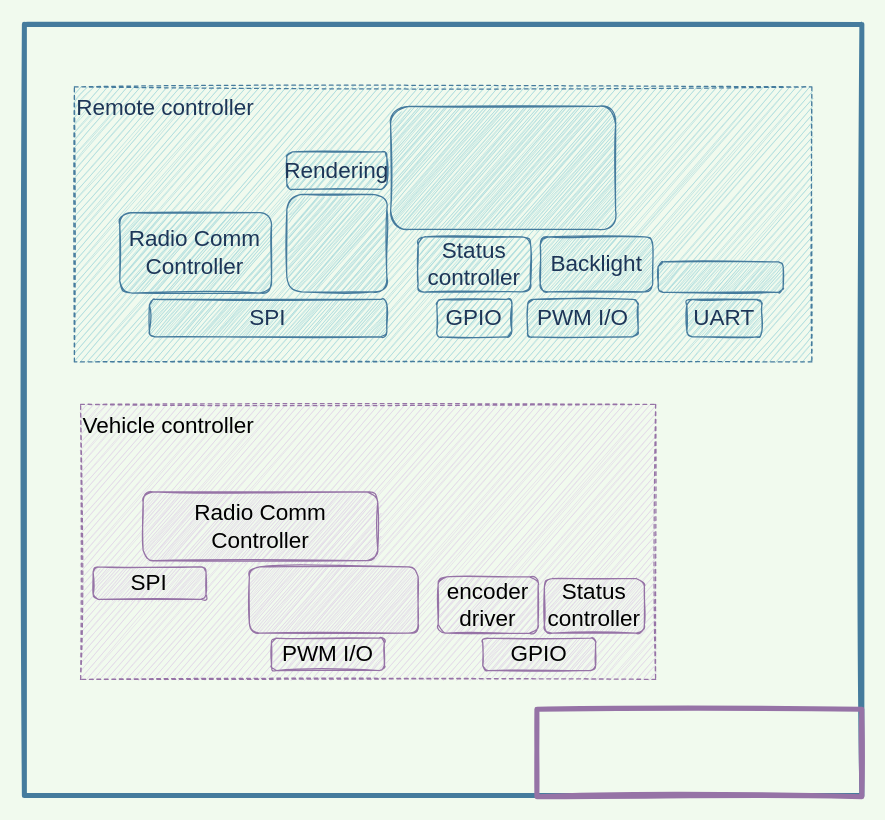
The diagram is 885 pixels wide and 820 high, and some of its shapes have lost their labels. The centre of each missing label's shape, as x and y in pixels:
Debug CLI: the point at 720,276
Flash driver: the point at 336,242
Layered block diagram: the point at 699,752
PID speed regulation: the point at 333,599
Touch screen controller: the point at 502,167
